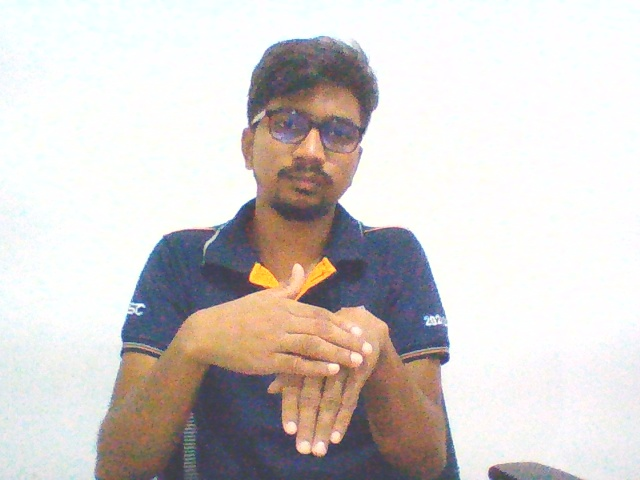pineapple: (166, 255, 390, 465)
